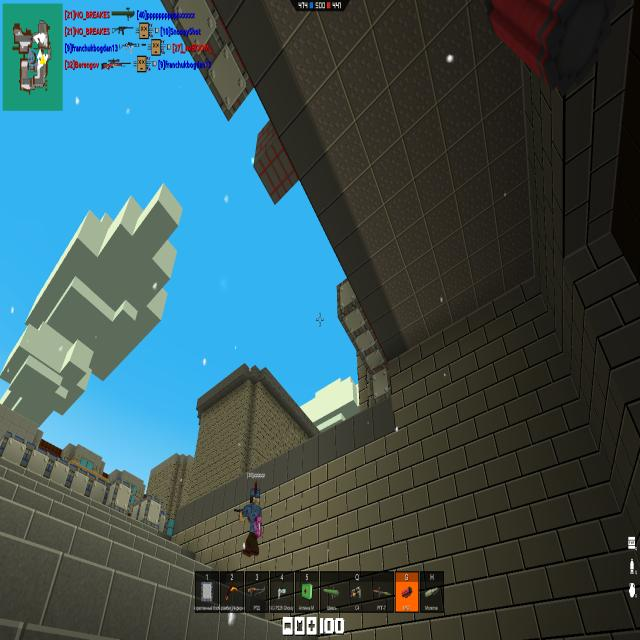player: (238, 479, 264, 558)
